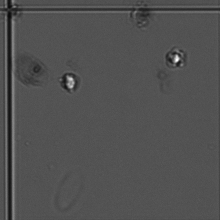Dead Cell: (16, 51, 49, 93)
Living Cell: (59, 69, 83, 99), (166, 43, 191, 71)
